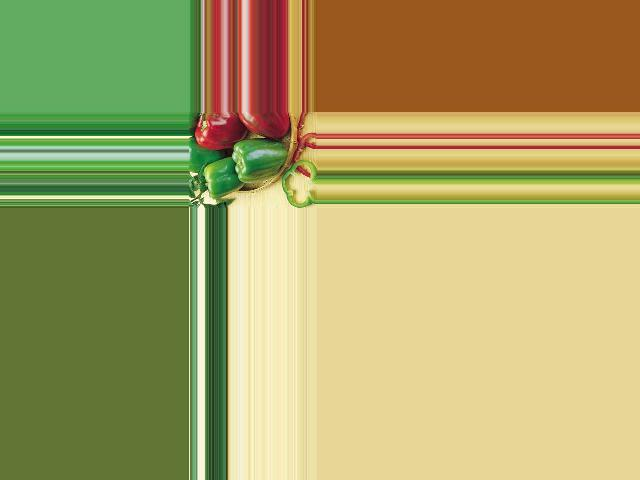bell_pepper: (237, 112, 290, 136)
